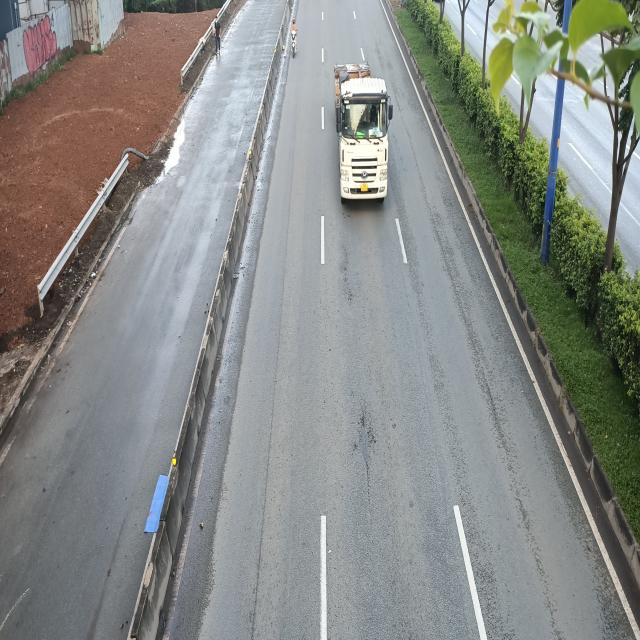container: (334, 66, 393, 208)
